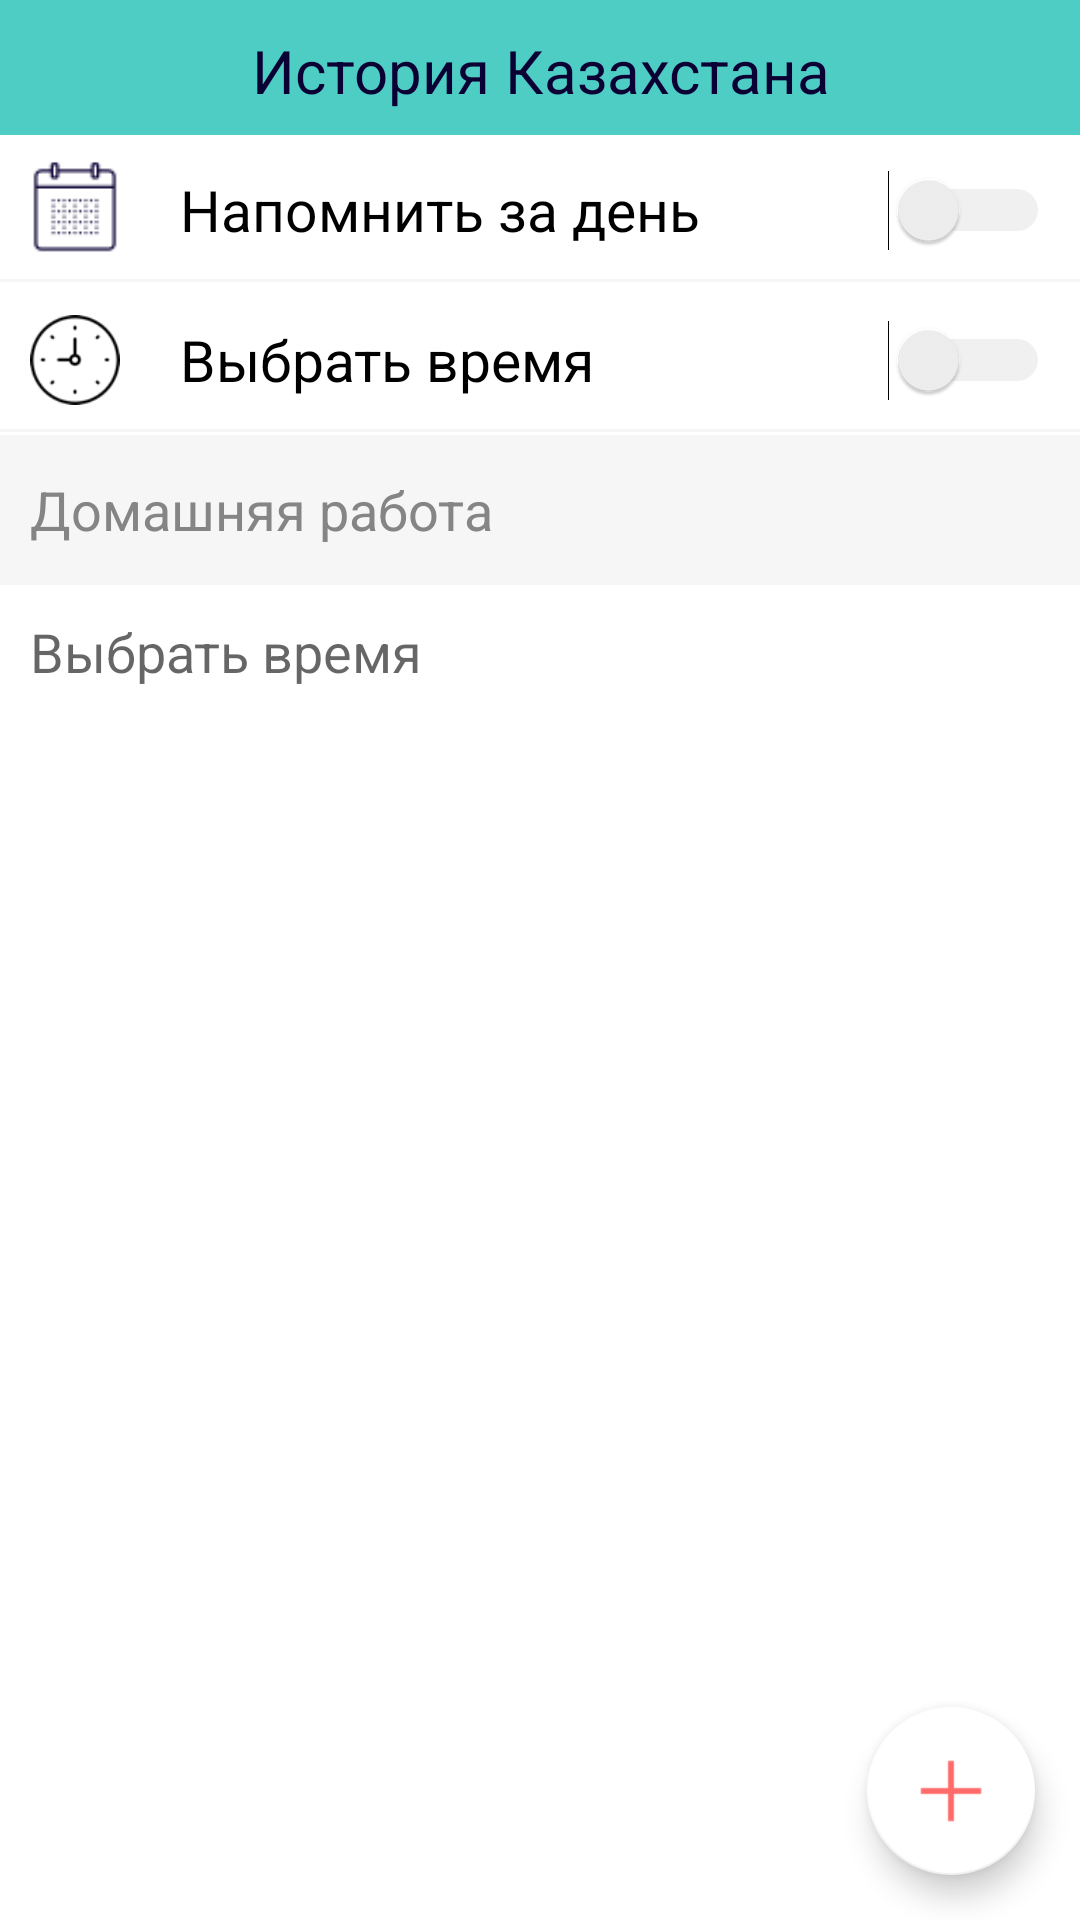

Icons on this 1080px x 1920px Android screen, each with the point to tap as (x,y):
calendar day: (75,207)
clock: (75,360)
